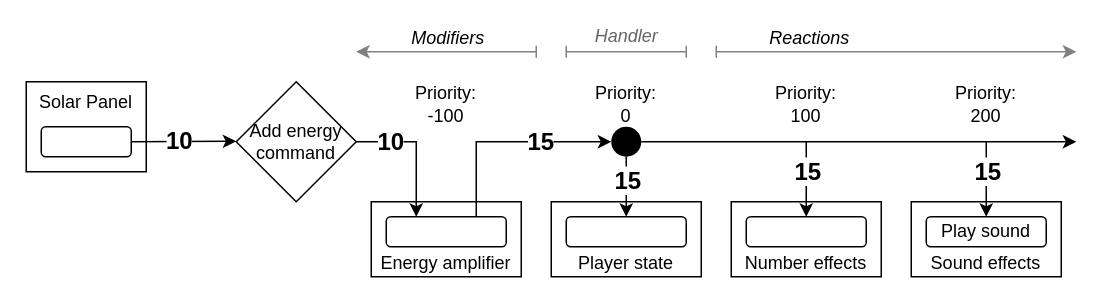
This 1116x303 diagram has some shape labels left out. The shapes that lost their labels are listed below. From the top down, each one's centre as x and y in pixels, then its label:
[85,141]: Produce
[445,231]: Amplify energy
[625,231]: Add energy
[805,231]: Show number
